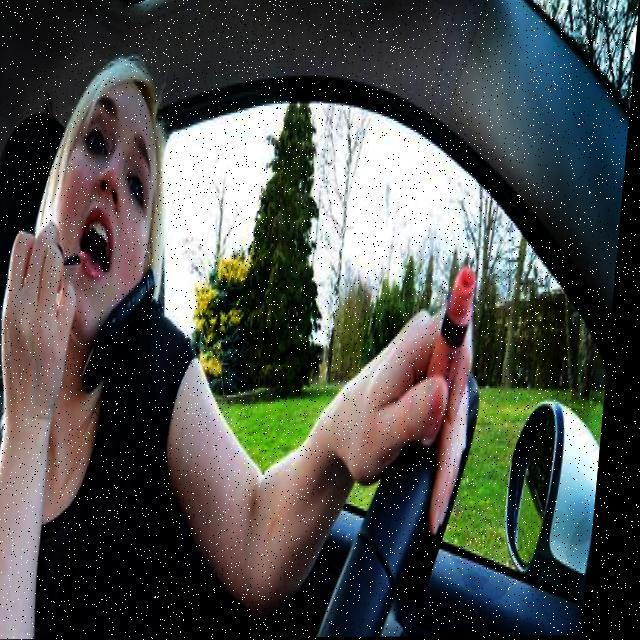noSeatbelt: (0, 267, 231, 640)
